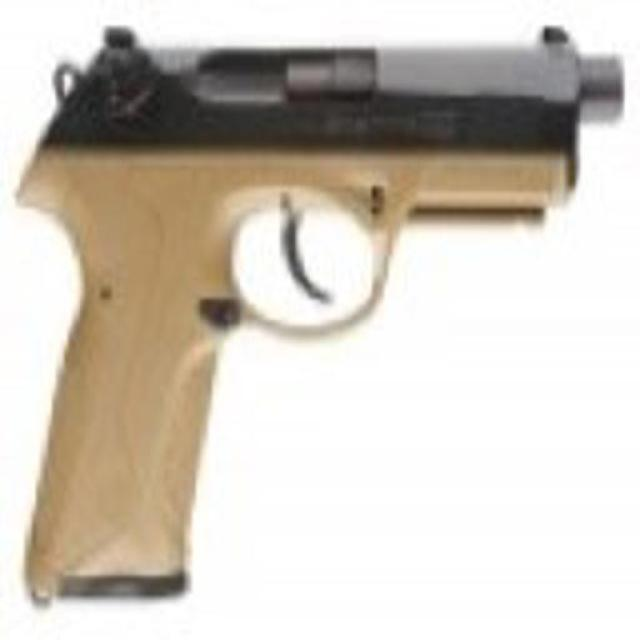pistol: (20, 15, 624, 596)
